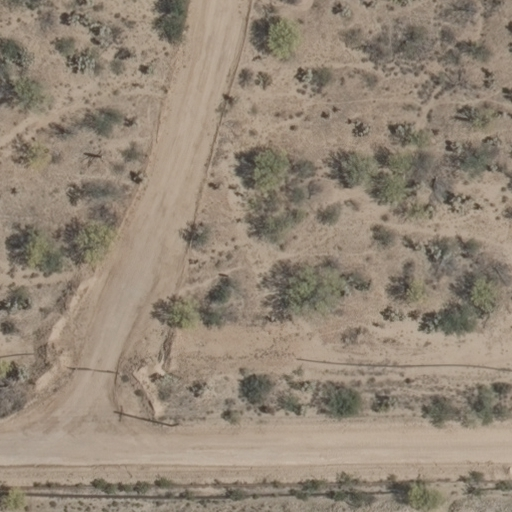DT: (166, 417, 191, 432)
